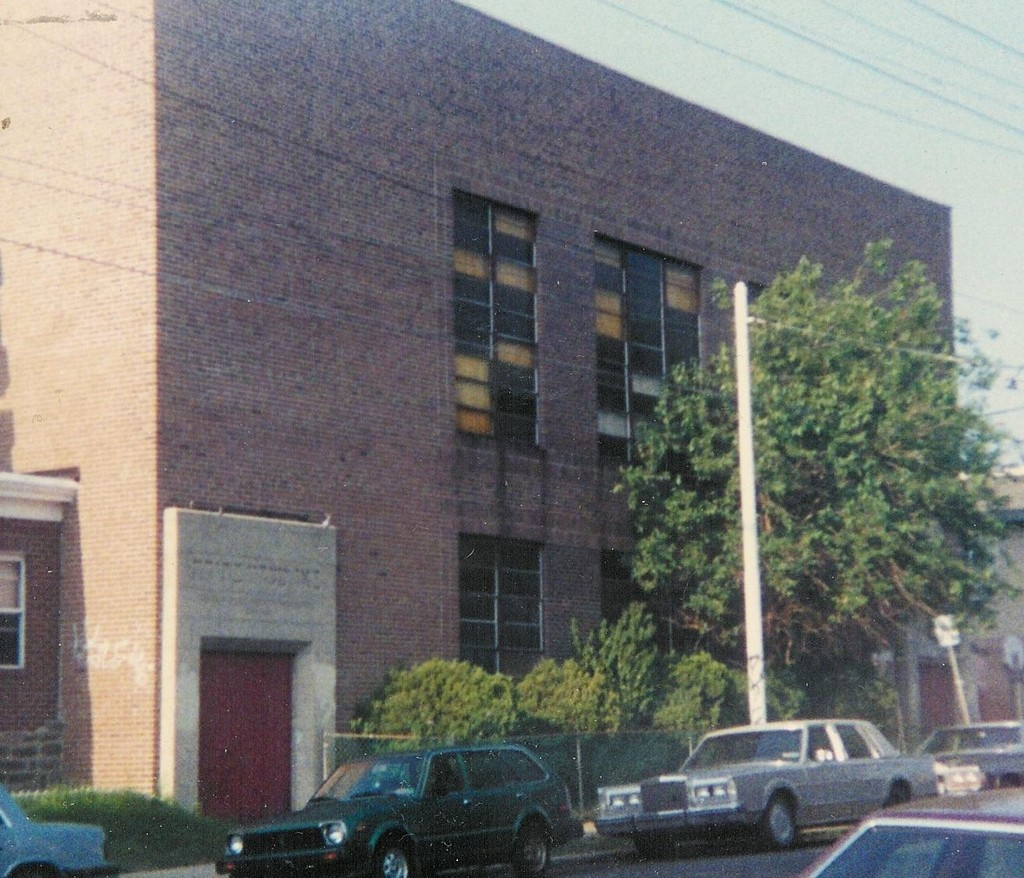Car: (215, 744, 574, 877), (595, 717, 939, 855), (794, 784, 1023, 877), (0, 789, 116, 877), (920, 719, 1023, 773)
